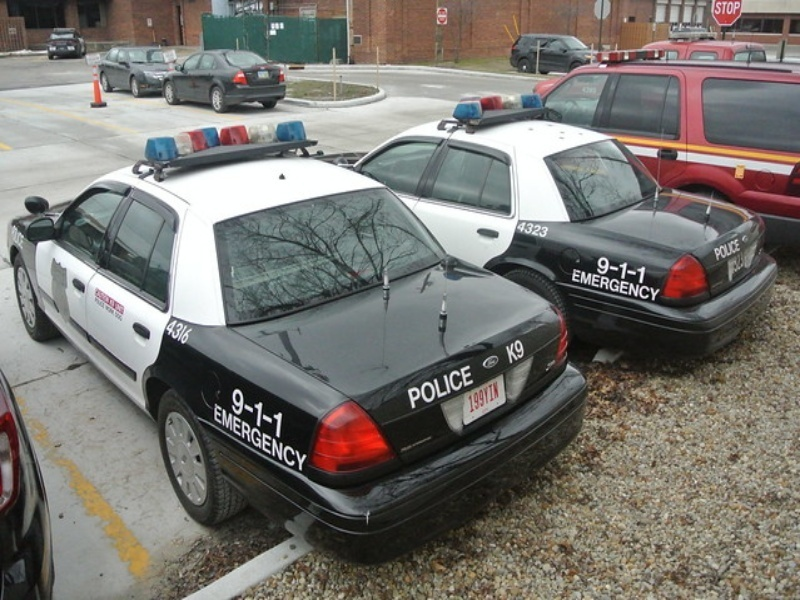policecar: (14, 108, 541, 534)
